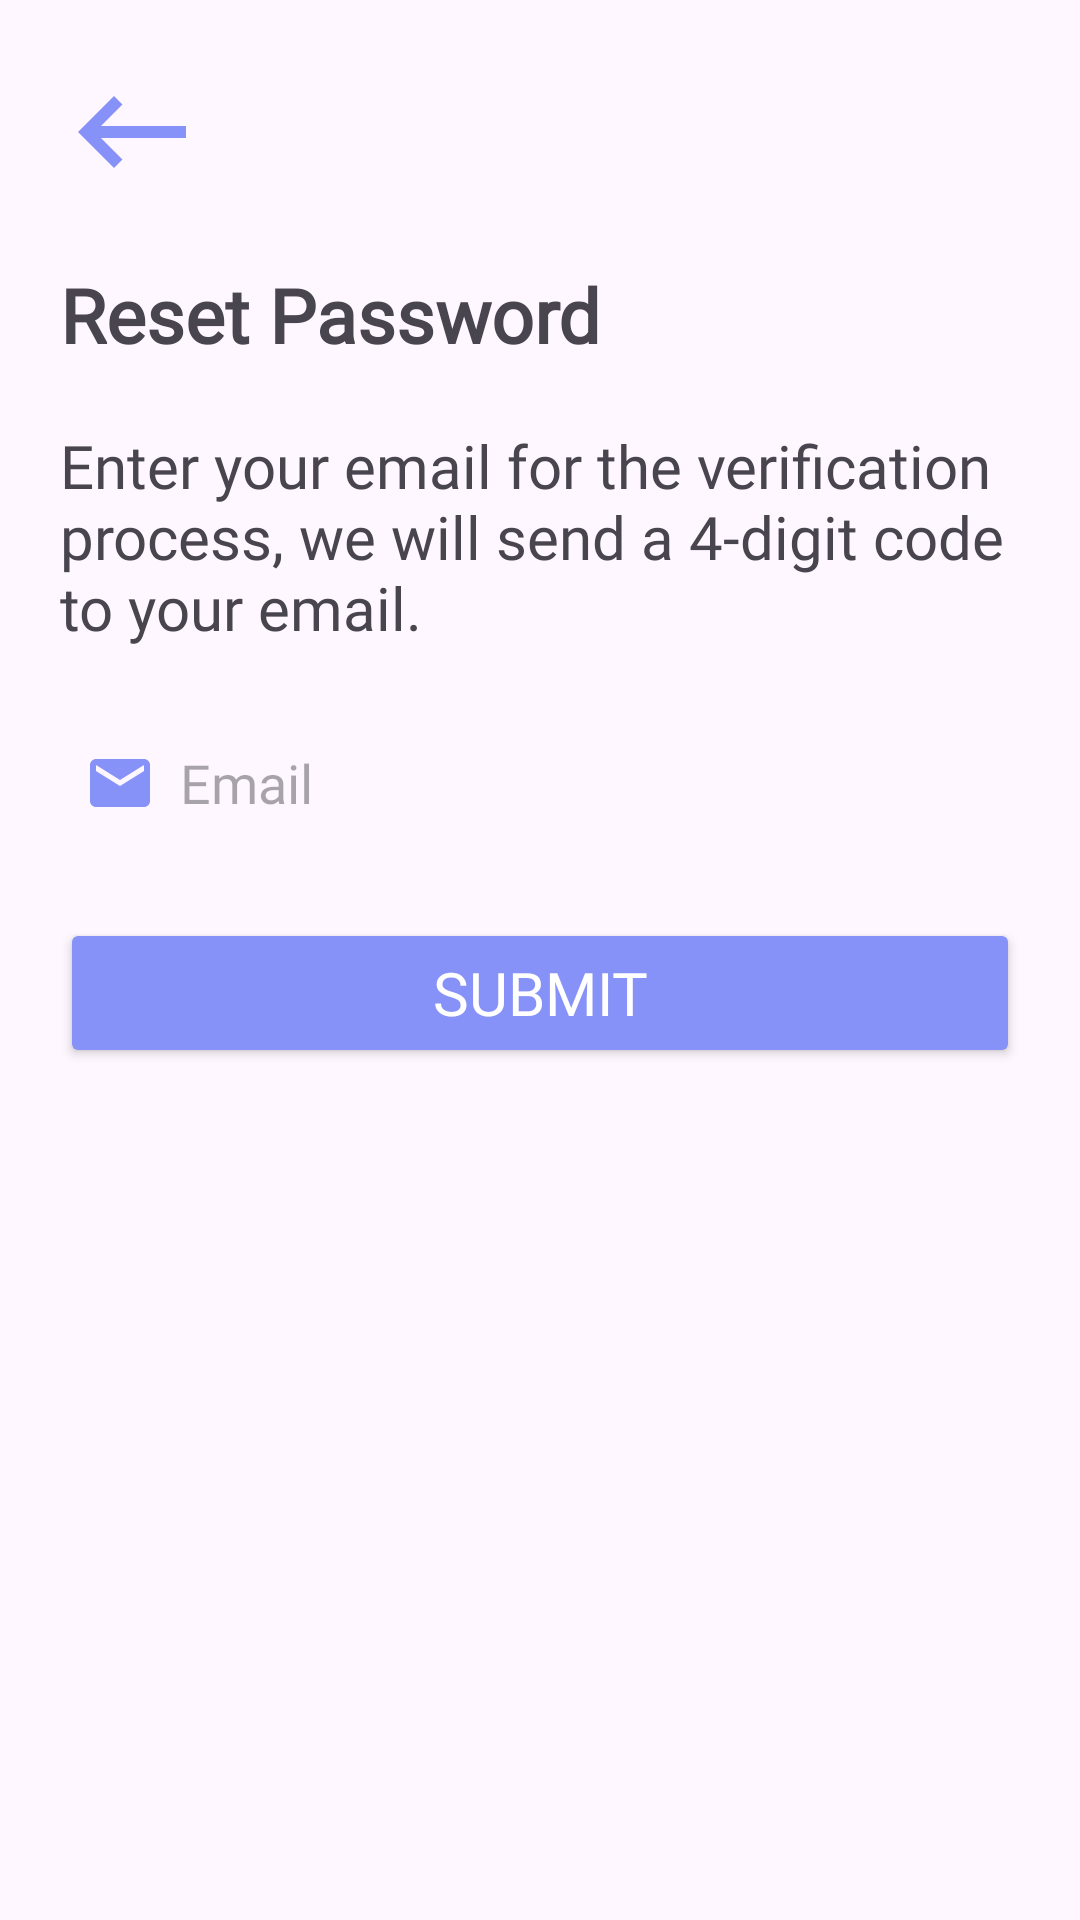

Where to tap for icons on this 1080w x 1920h app screen, as (x=x, y=y):
back: (x=132, y=132)
